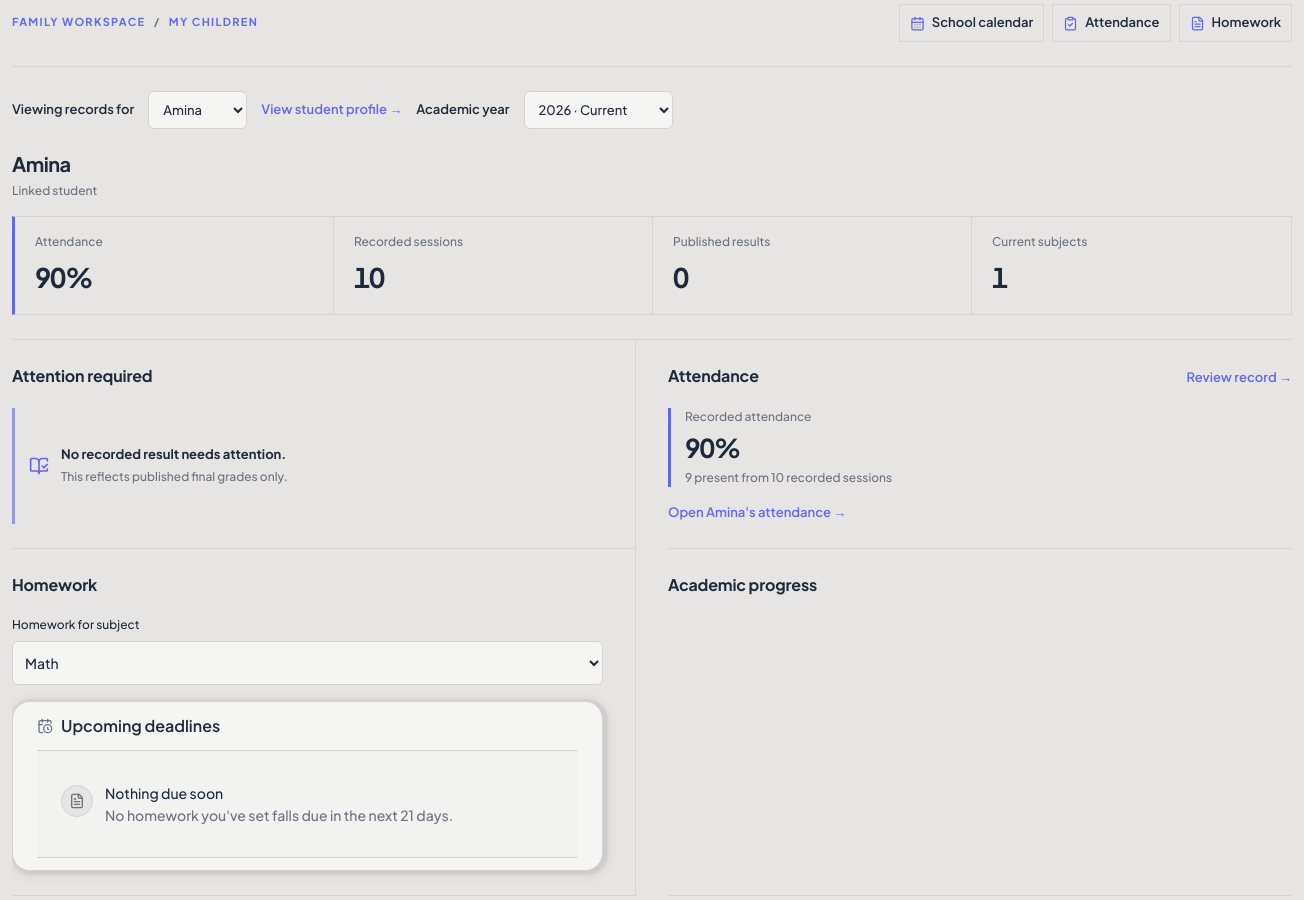
Scenario: keeps the selected academic year when opening attendance and homework
Expected: the text "90%" below "Linked student" is shown, [35,260,92,294]
Select "2025" in the dropdown labelled "Academic year" at (598, 110), box [524,91,673,129]
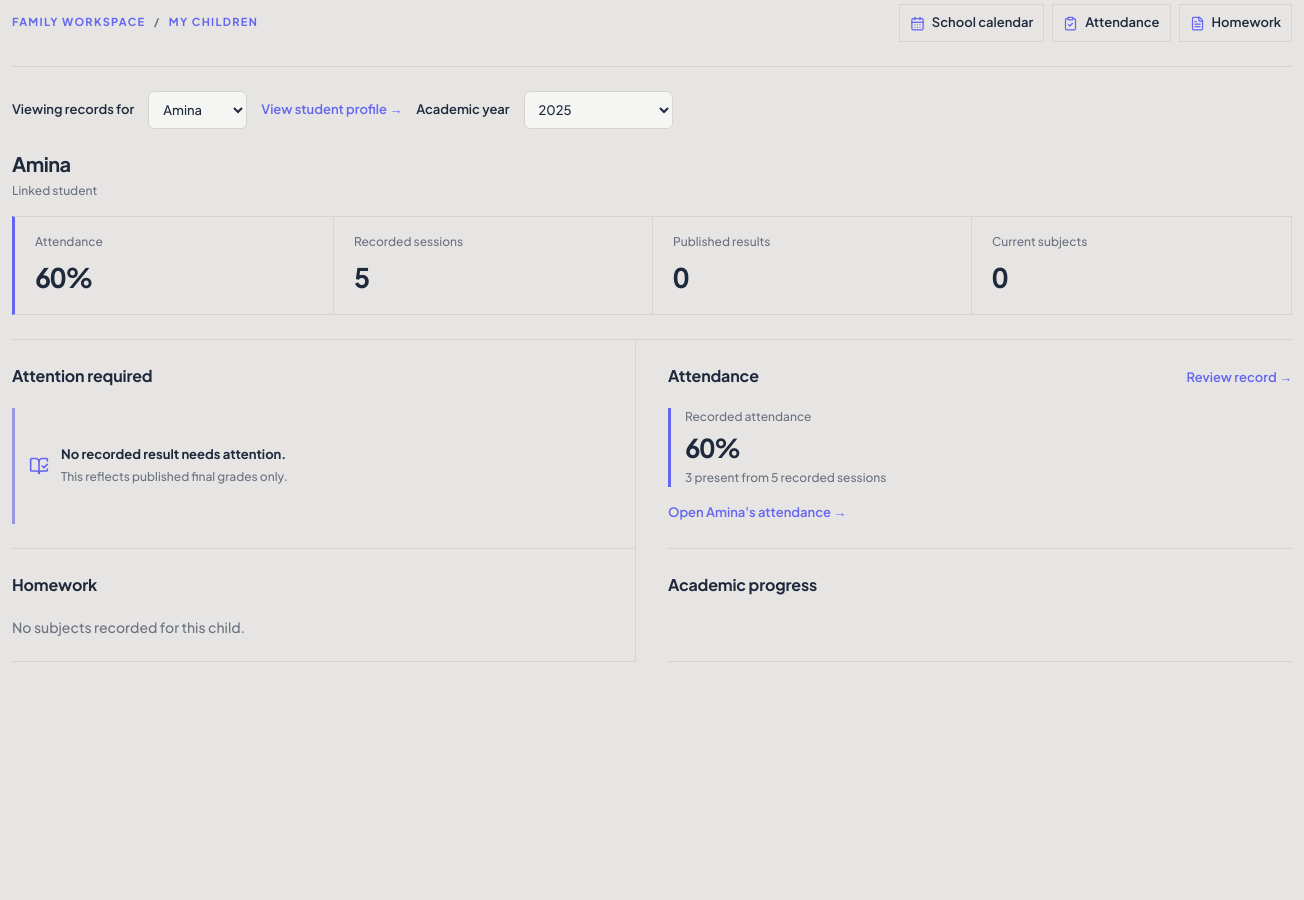
Expected: the text "60%" below "Linked student" is shown, [35,260,92,294]
Expected: the text "90%" is not shown
